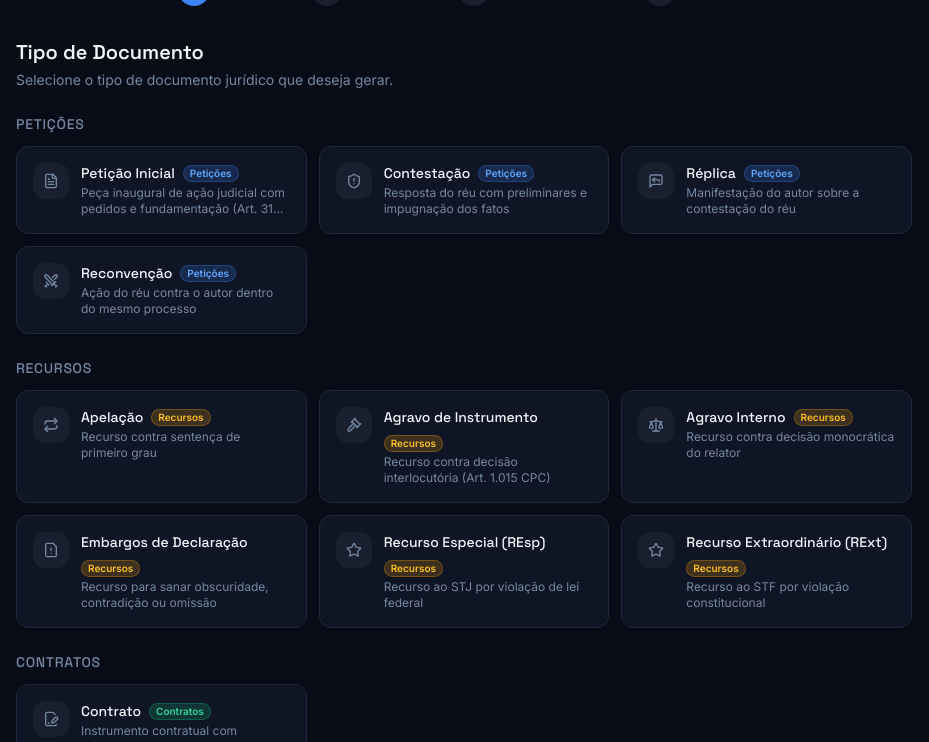
DocumentWizard › enables next button after selecting a document type
The width and height of the screenshot is (929, 742).
Click the heading "Petição Inicial" at point(128, 173), box [81, 163, 175, 183]
(page scrolled)
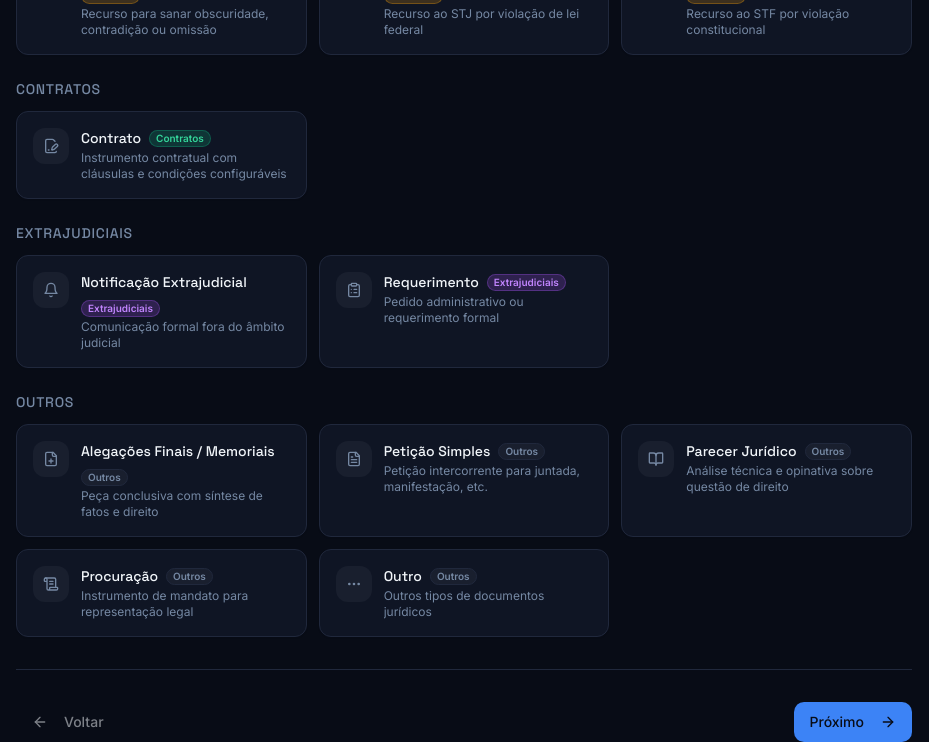
Expected: the button "Próximo" is enabled, [794, 702, 912, 741]
